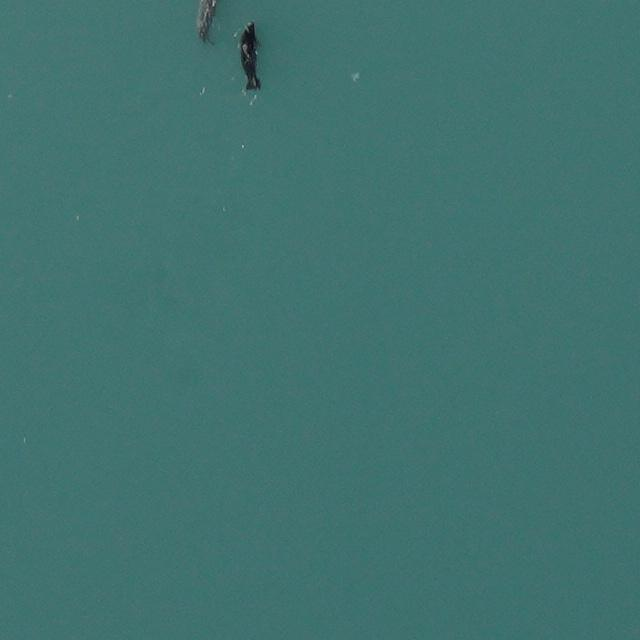seal: (237, 21, 263, 91)
